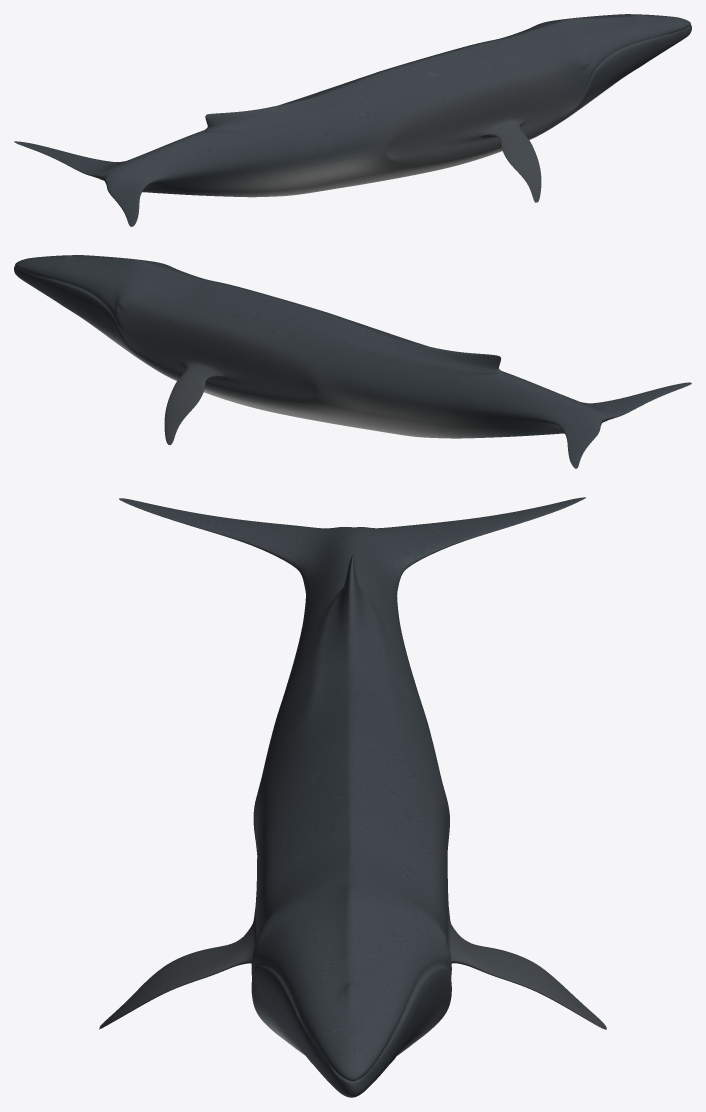
The model's file is model-cetacean-caperea-marginata-v0677.glb.
The picture shows the model from 3 angles, top to bottom: view 1: azimuth 30°, elevation 25°; view 2: azimuth 150°, elevation 25°; view 3: azimuth 270°, elevation 25°; orthographic projection. The views are drawn at different scales.
Parts seen in each view (by area): view 1: caperea-marginata source-derived exterior; view 2: caperea-marginata source-derived exterior; view 3: caperea-marginata source-derived exterior.
Part boxes in pixels (bbox=[...]): caperea-marginata source-derived exterior: bbox=[14, 14, 691, 226]; caperea-marginata source-derived exterior: bbox=[14, 255, 691, 468]; caperea-marginata source-derived exterior: bbox=[99, 497, 606, 1097].
Size of the model in its own units: 3.85 by 0.6807 by 1.37.
1 material, 1 textured.
